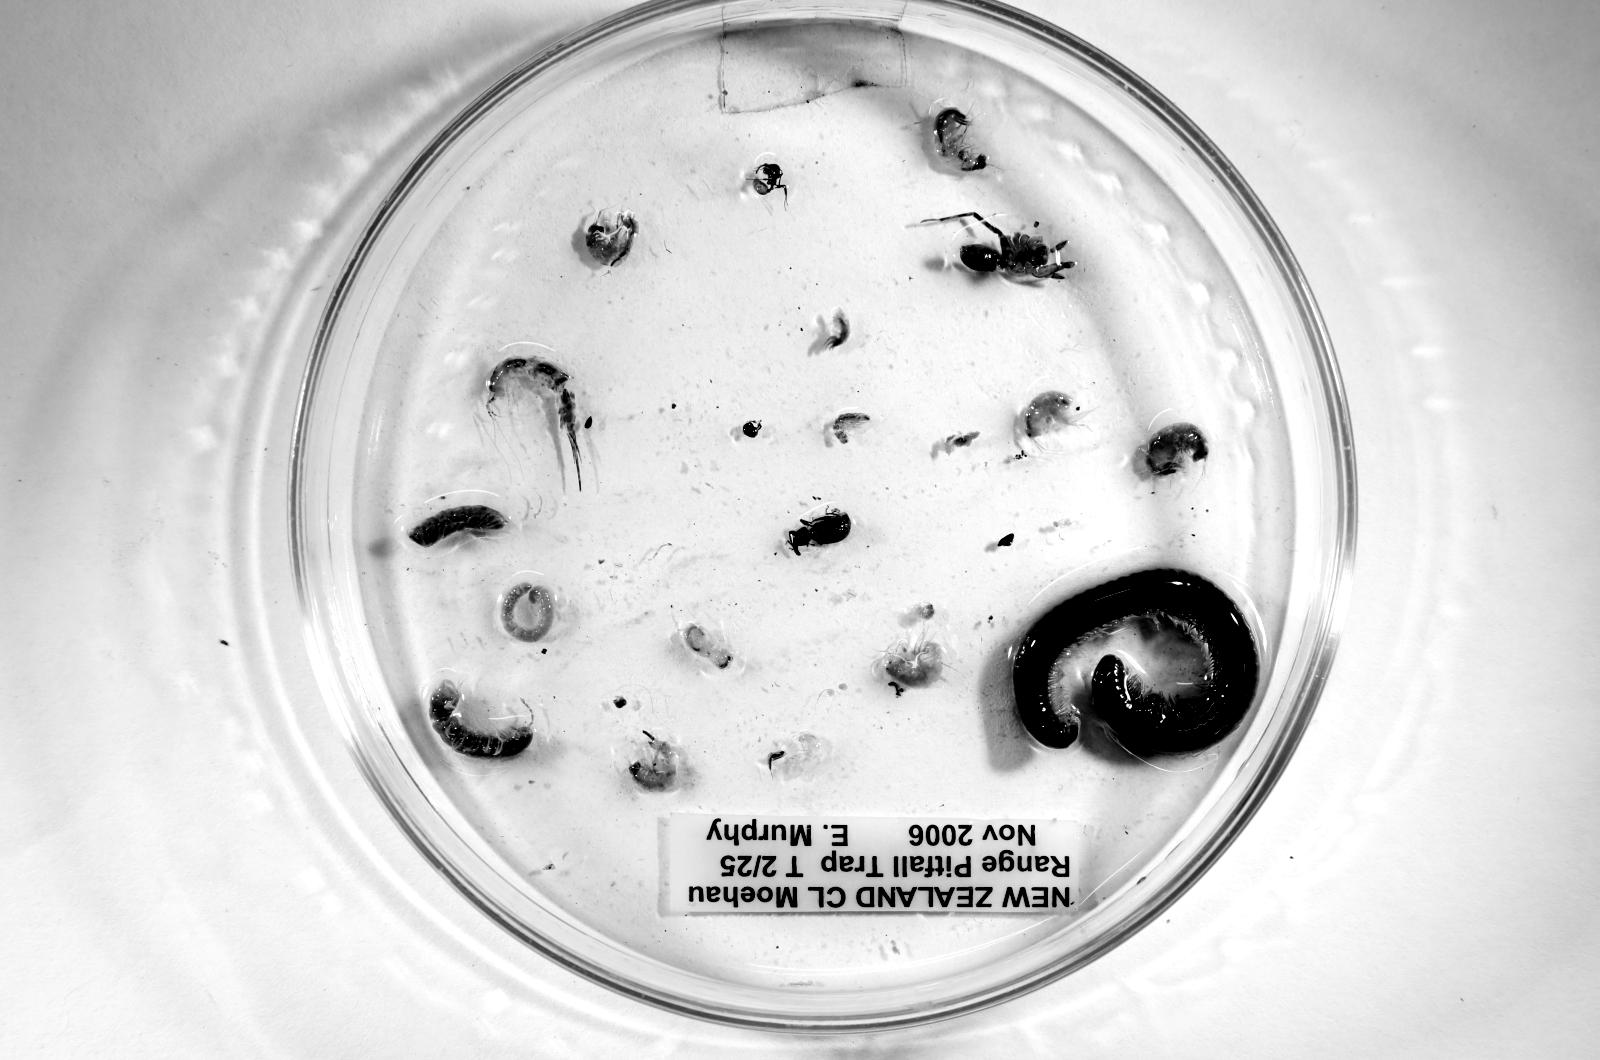amphipoda: (883, 632, 944, 691), (933, 106, 987, 172), (1145, 422, 1209, 477), (585, 208, 639, 266), (1022, 390, 1083, 440), (629, 731, 676, 791), (681, 622, 732, 668)
araneae: (921, 212, 1075, 279)
archaeognatha: (487, 356, 582, 490)
coleoptera: (785, 506, 853, 555)
diplopoda: (1015, 568, 1258, 752), (430, 679, 532, 757), (500, 582, 553, 642)
formicidae: (752, 162, 788, 195)
isopoda: (831, 412, 870, 444)
